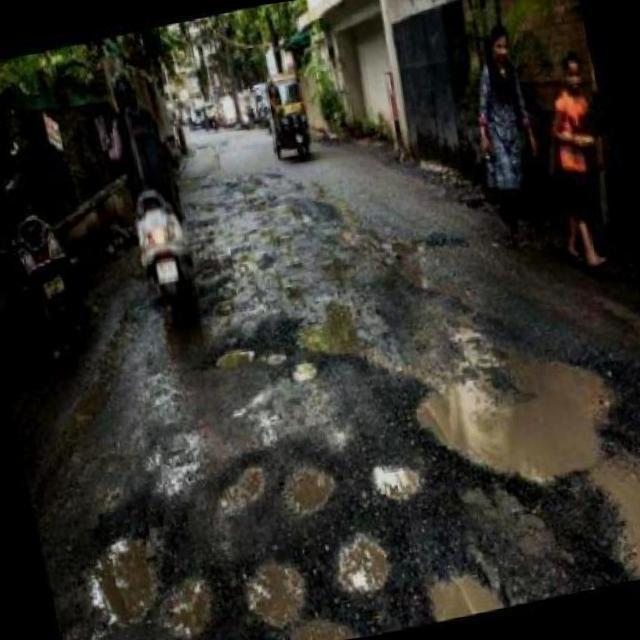Pothole: (418, 363, 640, 579), (90, 536, 157, 628), (245, 564, 306, 628), (158, 577, 218, 640), (339, 535, 391, 600), (431, 577, 506, 621), (280, 464, 336, 517), (220, 467, 263, 516), (287, 617, 365, 640), (373, 466, 421, 503), (215, 349, 256, 370), (290, 363, 319, 385)
